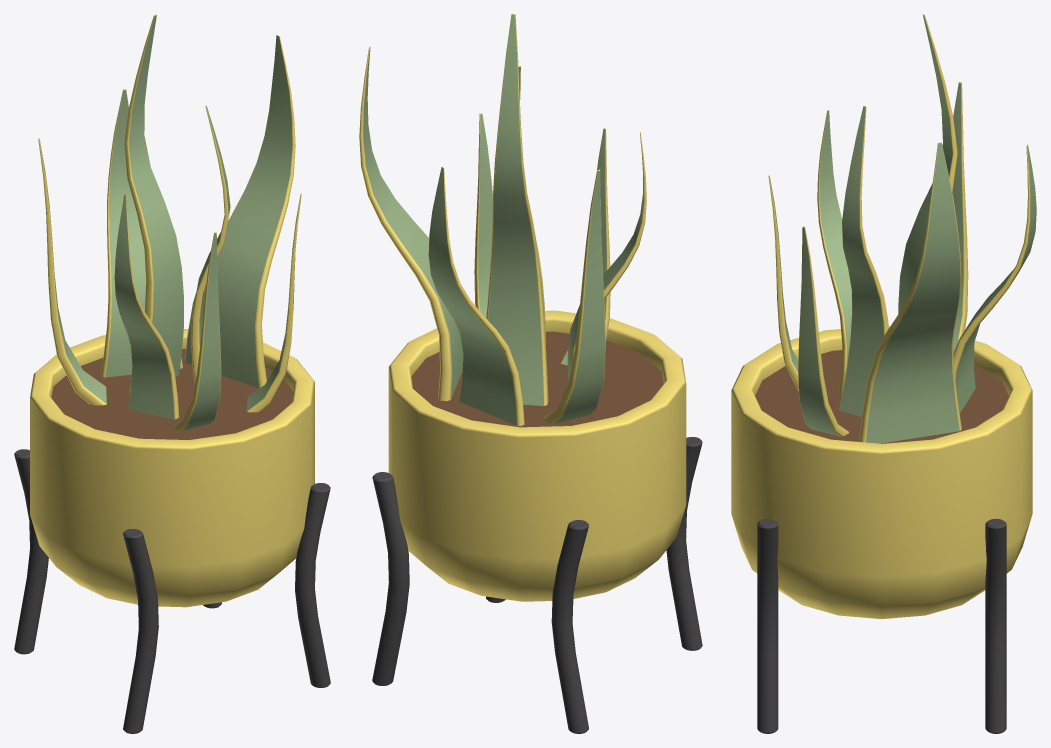
File: Plant_32.glb
The picture shows the model from 3 angles, left to right: view 1: azimuth 30°, elevation 25°; view 2: azimuth 150°, elevation 25°; view 3: azimuth 270°, elevation 25°; orthographic projection. The views are drawn at different scales.
Visible parts, largest first — view 1: Plant_32; view 2: Plant_32; view 3: Plant_32.
Boxes of the visible parts, <box> form: Plant_32: <box>14,14,330,733</box>; Plant_32: <box>359,14,702,733</box>; Plant_32: <box>731,14,1036,733</box>.
Size of the model in its own units: 0.5573 by 1.27 by 0.5242.
1 material, 1 textured.
